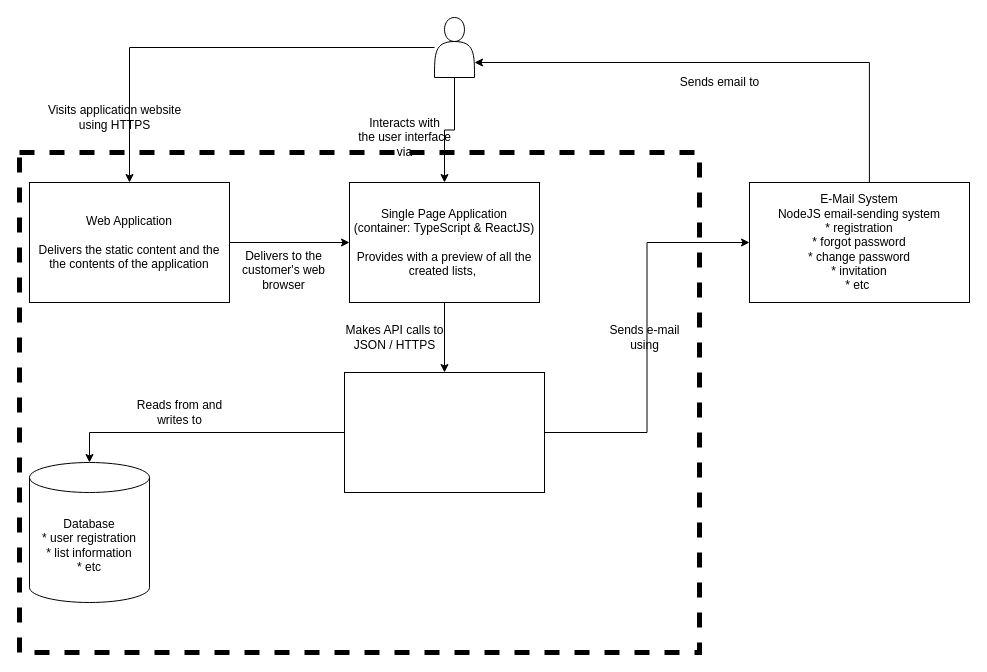
The diagram is 987 pixels wide and 672 high, and some of its shapes have lost their labels. The shapes that lost their labels are listed below. From the top down, each one's centre as x and y in pixels, then its label:
At [454,47]: "User".
At [444,432]: "API Applcation (container: NodeJS)".
